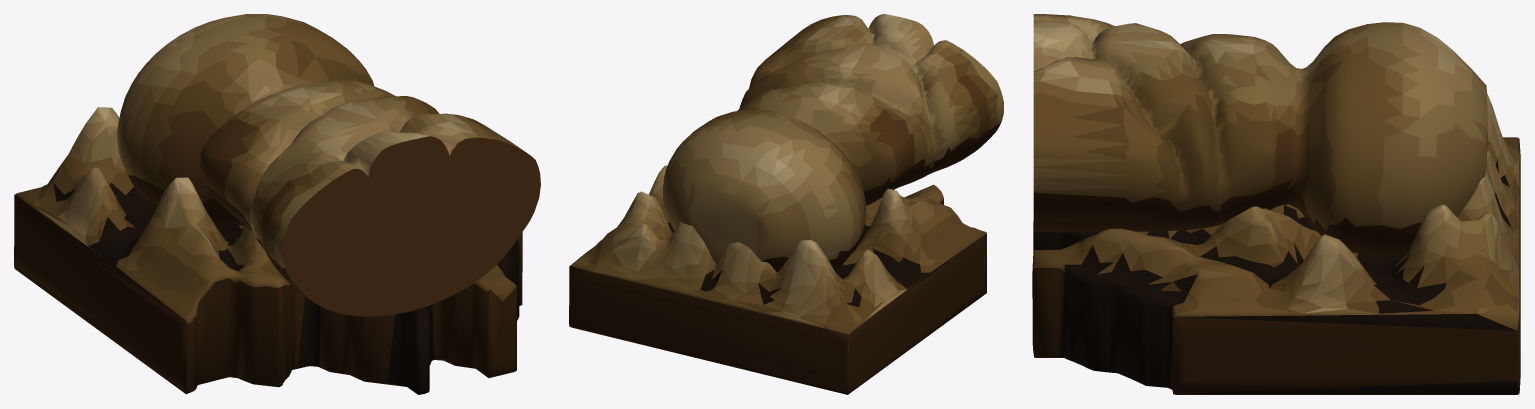
Rendered from ixm_maw_55.glb.
3 renders of one model, left to right at view 1: azimuth 30°, elevation 25°; view 2: azimuth 150°, elevation 25°; view 3: azimuth 270°, elevation 25°, orthographic. The views are drawn at different scales.
Visible parts, largest first — view 1: ixm_maw_55; view 2: ixm_maw_55; view 3: ixm_maw_55.
Part boxes in pixels (<box>): ixm_maw_55: <box>14,14,540,394</box>; ixm_maw_55: <box>569,14,1003,394</box>; ixm_maw_55: <box>1032,14,1520,394</box>.
Size of the model in its own units: 24.14 by 17.23 by 27.95.
